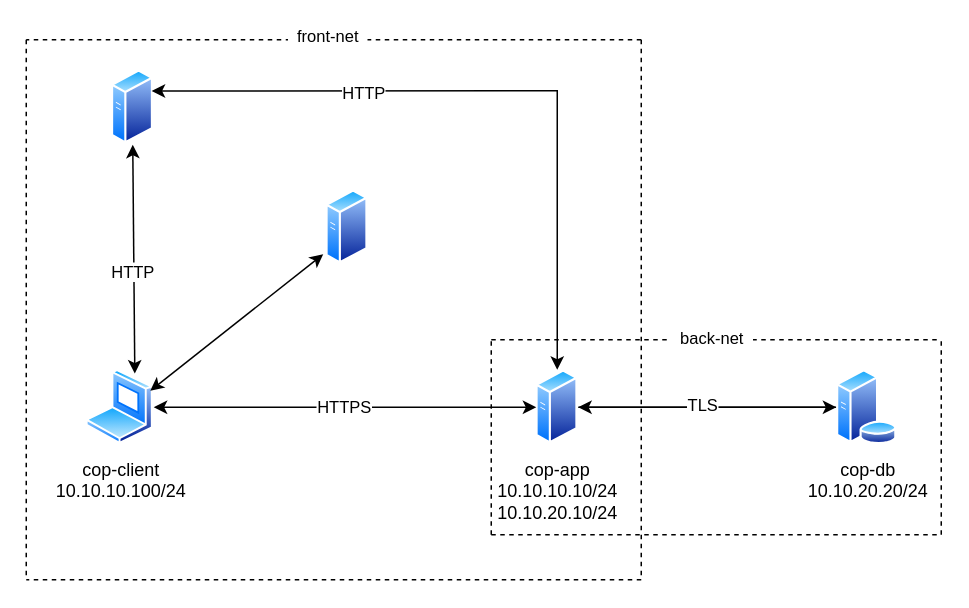
Some shapes in this 969 by 608 pixel diagram are drawn without their labels. Here are the shapes that lost their labels. From the top down, the centre of each, then its label:
the point at 132,106: cop-group 10.10.10.20/24
the point at 347,226: cop-ca 10.10.10.30/24
